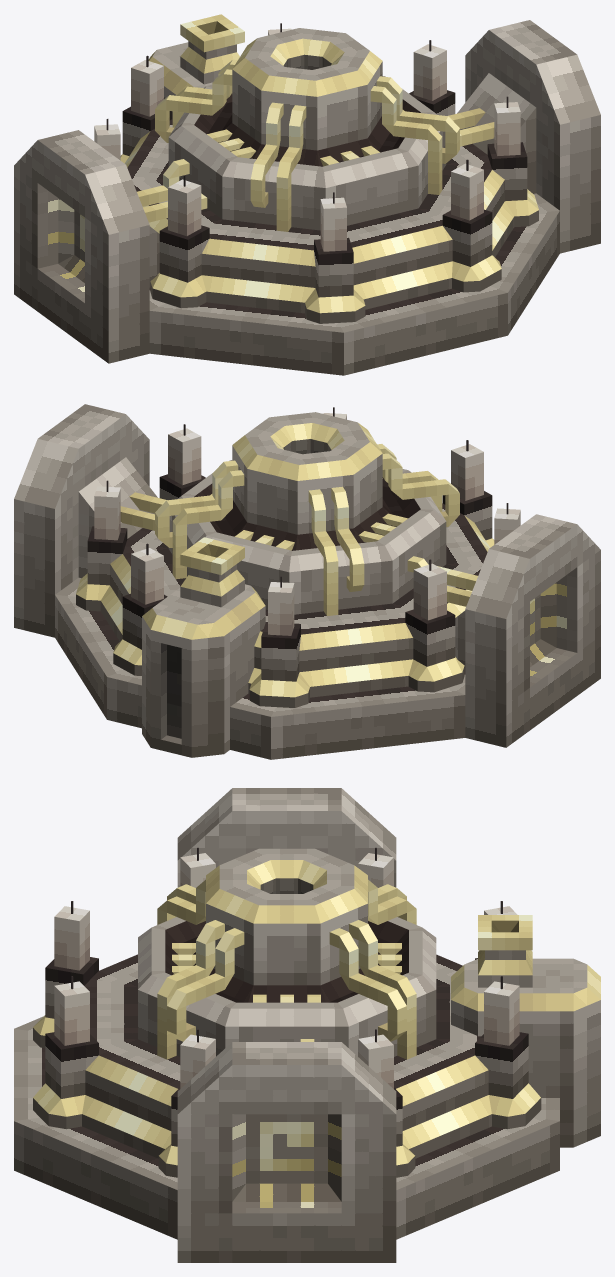
Rendered from alchemical_nexus_body.obj.
The picture shows the model from 3 angles, top to bottom: view 1: azimuth 30°, elevation 25°; view 2: azimuth 150°, elevation 25°; view 3: azimuth 270°, elevation 25°; orthographic projection. The views are drawn at different scales.
Parts seen in each view (by area): view 1: ALCHEMICAL_NEXUS_BODY_Cube.000; view 2: ALCHEMICAL_NEXUS_BODY_Cube.000; view 3: ALCHEMICAL_NEXUS_BODY_Cube.000.
Part boxes in pixels (<box>): ALCHEMICAL_NEXUS_BODY_Cube.000: <box>14,14,600,375</box>; ALCHEMICAL_NEXUS_BODY_Cube.000: <box>14,404,600,759</box>; ALCHEMICAL_NEXUS_BODY_Cube.000: <box>14,788,600,1262</box>.
Bounding box in the file's own units: 3 × 1.25 × 2.69.
